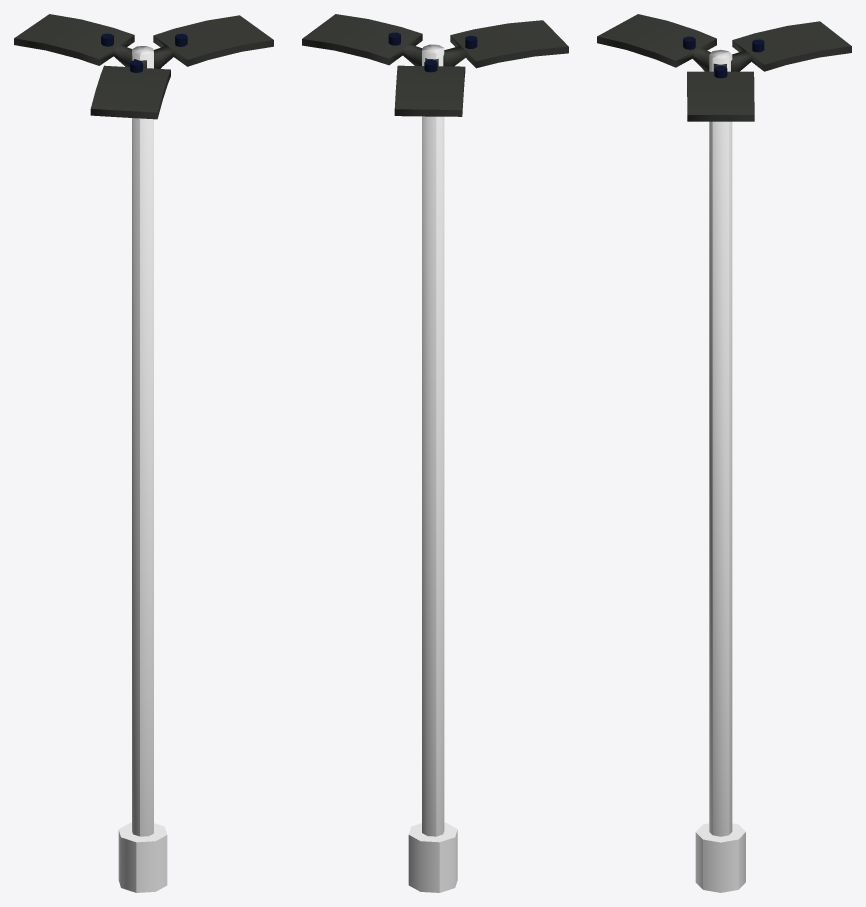
File: Flood_Harbour-Light_03.fbx
3 renders of one model, left to right at view 1: azimuth 30°, elevation 25°; view 2: azimuth 150°, elevation 25°; view 3: azimuth 270°, elevation 25°, orthographic.
Visible parts, largest first — view 1: Pole, Lights, Base; view 2: Pole, Lights, Base; view 3: Pole, Lights, Base.
Boxes of the visible parts, <box> form: Pole: <box>132,46,153,836</box>; Lights: <box>14,14,273,119</box>; Base: <box>118,822,167,892</box>; Pole: <box>422,44,444,836</box>; Lights: <box>302,14,568,116</box>; Base: <box>408,822,457,892</box>; Pole: <box>709,49,732,836</box>; Lights: <box>597,14,851,121</box>; Base: <box>695,823,745,892</box>.
Size of the model in its own units: 5.57 by 21.42 by 5.95.
